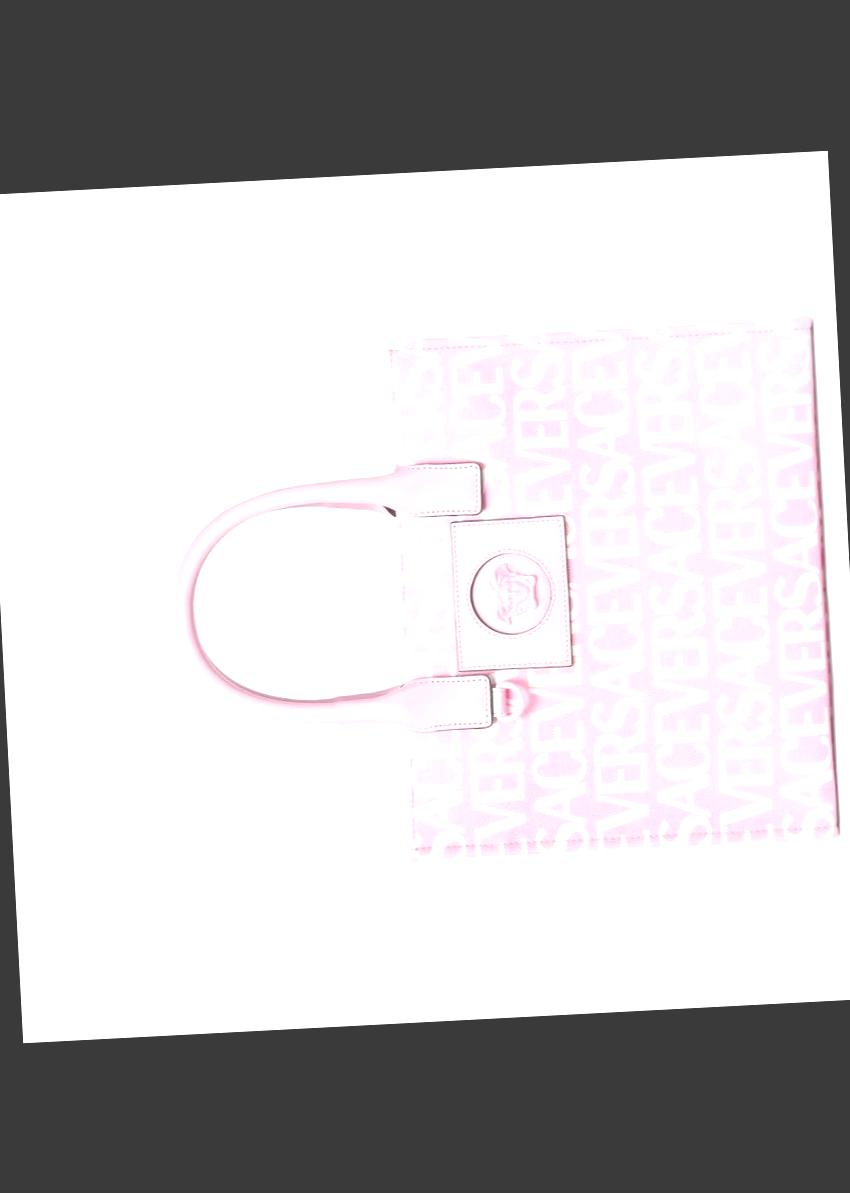VERSACE: (464, 542, 554, 642)
